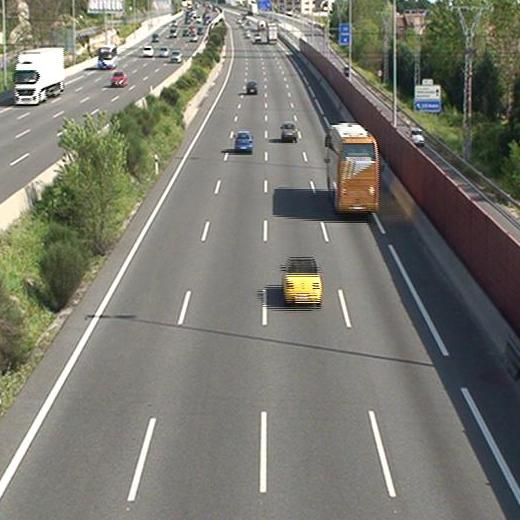bus: (326, 124, 378, 213)
car: (282, 256, 323, 303), (234, 132, 253, 151), (281, 122, 297, 141), (247, 80, 258, 94)
